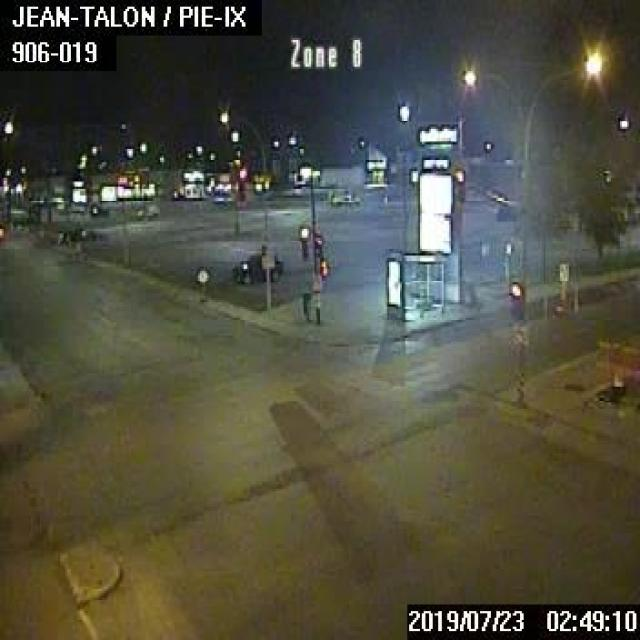construction: (598, 342, 638, 396)
vehicle: (231, 252, 281, 282), (330, 191, 358, 204), (494, 201, 514, 218)
